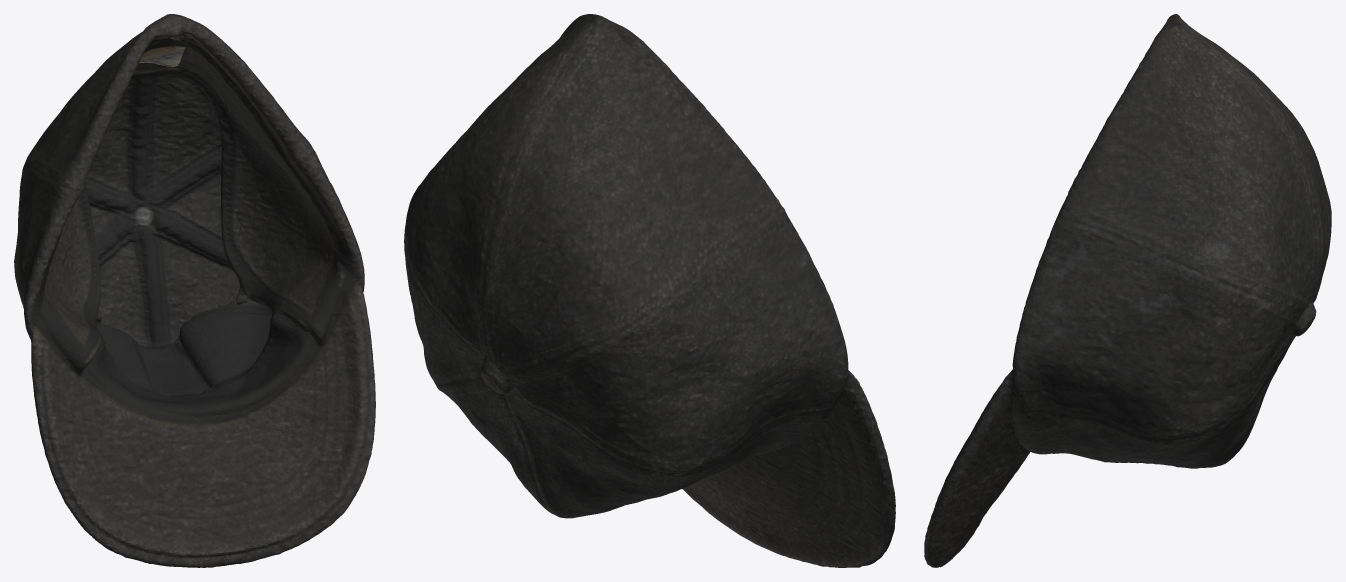
File: export-middle.obj
3 renders of one model, left to right at view 1: azimuth 30°, elevation 25°; view 2: azimuth 150°, elevation 25°; view 3: azimuth 270°, elevation 25°, orthographic. The views are drawn at different scales.
Size of the model in its own units: 197 by 284 by 192.
1 material, 1 textured.
